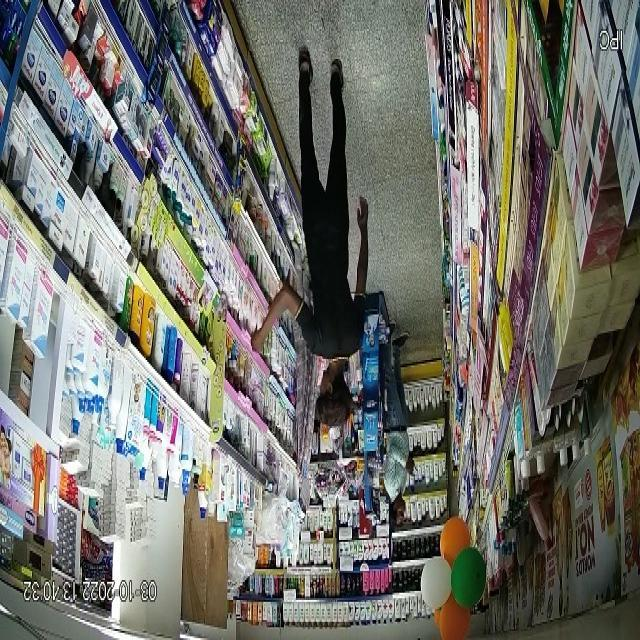Normal: (246, 51, 390, 446)
